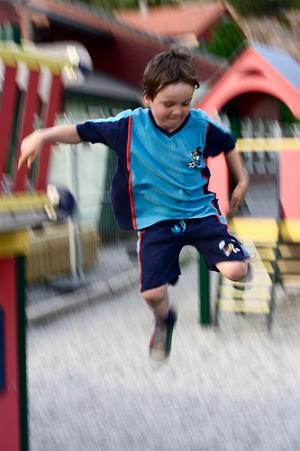person: (19, 52, 254, 375)
